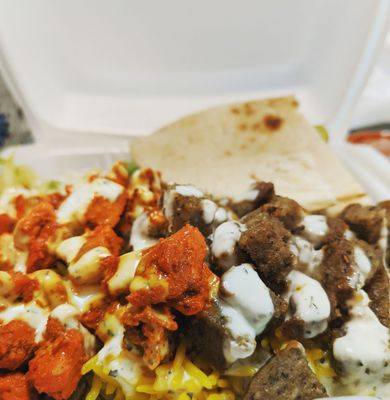sandwich: (3, 92, 385, 398)
